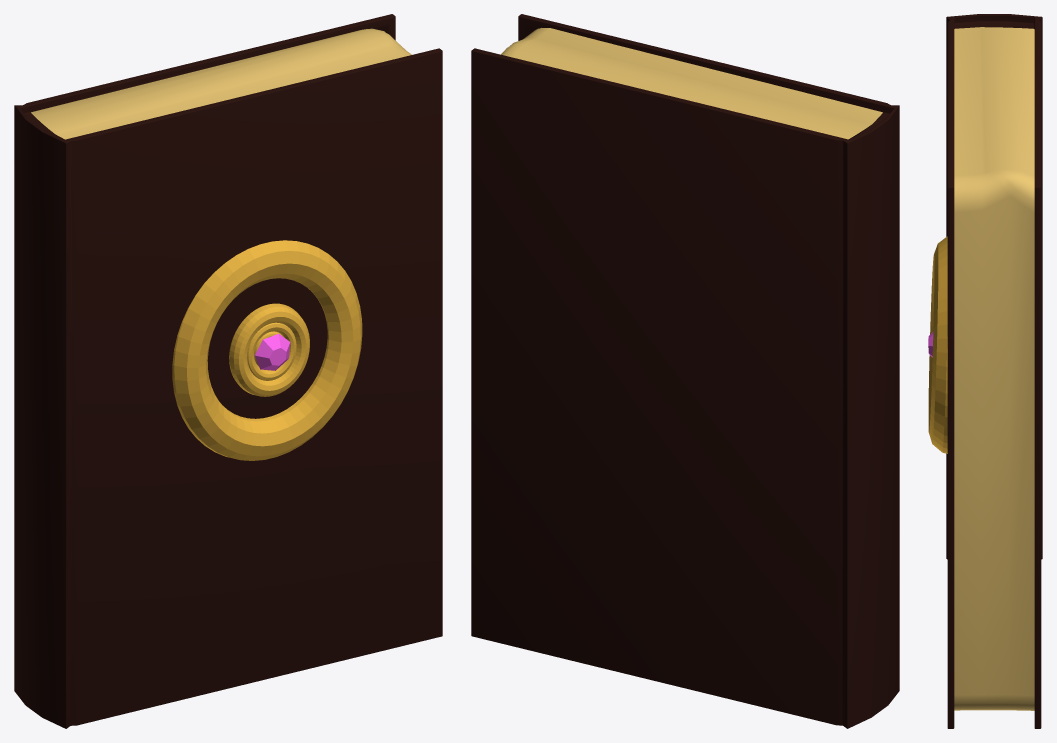
The model's file is SPELLBOOKFINAL.fbx.
3 renders of one model, left to right at view 1: azimuth 30°, elevation 25°; view 2: azimuth 150°, elevation 25°; view 3: azimuth 270°, elevation 25°, orthographic. The views are drawn at different scales.
Parts seen in each view (by area): view 1: spellbook, band, spellbook.001, band.001, Cone; view 2: spellbook, spellbook.001; view 3: spellbook.001, spellbook, band.
Boxes of the visible parts, x1,y1,x2,y2 form: spellbook: (14,14,442,728); band: (172,240,362,460); spellbook.001: (31,28,411,139); band.001: (229,303,309,396); Cone: (254,333,290,370); spellbook: (471,14,899,728); spellbook.001: (501,28,882,139); spellbook.001: (954,27,1034,710); spellbook: (946,14,1042,728); band: (928,236,947,453).
Size of the model in its own units: 13.58 by 19.87 by 3.78.
